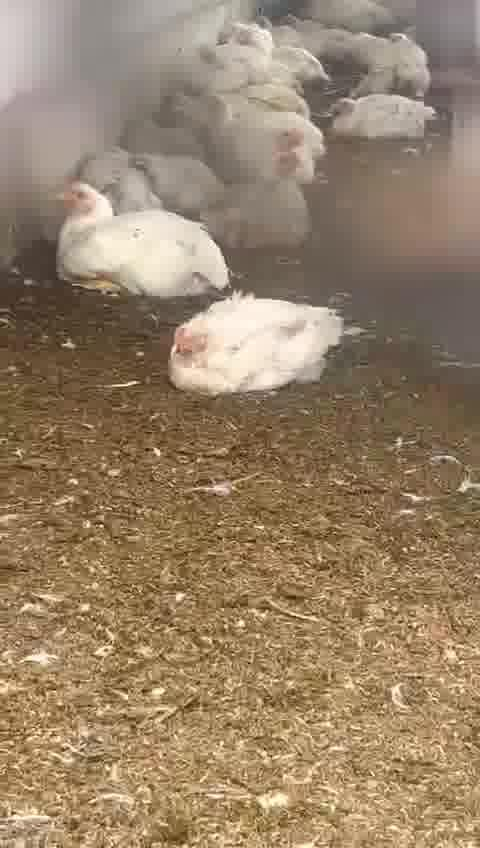AbNormal: (165, 300, 335, 396), (205, 120, 310, 245), (330, 94, 442, 141)
Normal: (64, 177, 231, 301)
